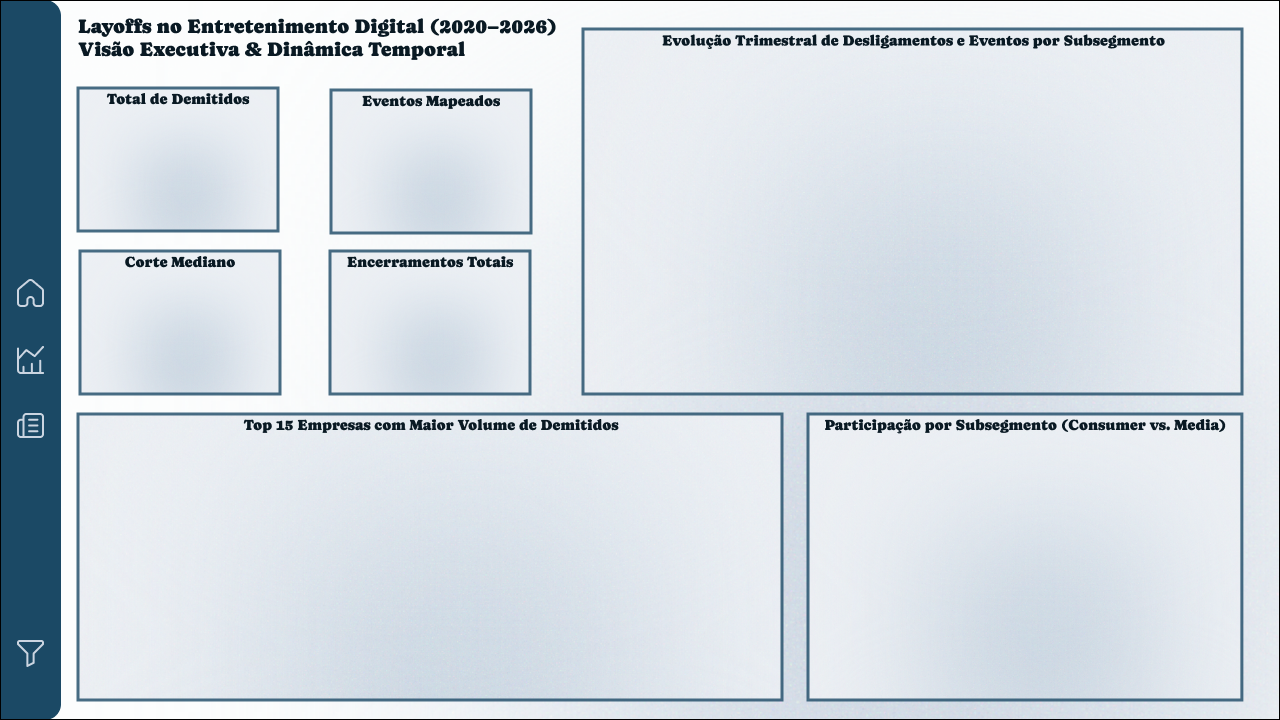

The page's visual inventory and layout, read from the dashboard file:
{"tool":"powerbi","page":{"name":"Dinâmica Temporal","canvas":[1920,1080],"ordinal":1},"visuals":[{"type":"group","id":"g1","title":"Padrão","box":[0,0,1920,1080],"z":0},{"type":"image","box":[0,0,1920,1080],"z":0,"group":"g1"},{"type":"cardVisual","fields":{"Data":["Sum(vw_evolucao_temporal.total_laid_off)"]},"box":[120,144,280,200],"z":1000,"group":"g1"},{"type":"cardVisual","fields":{"Data":["layoffs.Eventos_Mapeados"]},"box":[504,144,280,200],"z":2000,"group":"g1"},{"type":"cardVisual","fields":{"Data":["Median(layoffs.percentage_laid_off)"]},"box":[120,384,280,200],"z":3000,"group":"g1"},{"type":"cardVisual","fields":{"Data":["layoffs.Encerramentos_Totais"]},"box":[504,384,280,200],"z":4000,"group":"g1"},{"type":"actionButton","title":"Painel Filtros","box":[7,945,72,72],"z":4000},{"type":"lineStackedColumnComboChart","fields":{"Category":["layoffs.Periodo_Trimestre"],"Series":["layoffs.industry"],"Y":["Sum(layoffs.total_laid_off)"],"Y2":["layoffs.Eventos_Mapeados"]},"box":[888,96,960,456],"z":5000,"group":"g1"},{"type":"actionButton","title":"Painel Navegação","box":[7,505,72,72],"z":5000},{"type":"pageNavigator","title":"Sobre o Case","box":[12,608,60,60],"z":6000},{"type":"clusteredBarChart","fields":{"Category":["layoffs.company"],"Y":["Sum(layoffs.total_laid_off)"]},"box":[120,672,1032,384],"z":6000,"group":"g1"},{"type":"pageNavigator","title":"Home","box":[22,418,60,60],"z":7000},{"type":"donutChart","fields":{"Category":["layoffs.industry"],"Y":["Sum(layoffs.total_laid_off)"]},"box":[1224,672,624,384],"z":7000,"group":"g1"}]}

Visuals, with their boxes on the page's 1920x1080 design canvas (x1, y1, x2, y2). These are canvas units, not pixel positions in the 1280x720 screenshot, which may show the page scaled, cropped or inside an application window:
"Padrão" group: bbox=(0, 0, 1920, 1080)
image: bbox=(0, 0, 1920, 1080)
cardVisual - Sum(vw_evolucao_temporal.total_laid_off): bbox=(120, 144, 400, 344)
cardVisual - layoffs.Eventos_Mapeados: bbox=(504, 144, 784, 344)
cardVisual - Median(layoffs.percentage_laid_off): bbox=(120, 384, 400, 584)
cardVisual - layoffs.Encerramentos_Totais: bbox=(504, 384, 784, 584)
"Painel Filtros" actionButton: bbox=(7, 945, 79, 1017)
lineStackedColumnComboChart - layoffs.Periodo_Trimestre x layoffs.industry: bbox=(888, 96, 1848, 552)
"Painel Navegação" actionButton: bbox=(7, 505, 79, 577)
"Sobre o Case" pageNavigator: bbox=(12, 608, 72, 668)
clusteredBarChart - layoffs.company x Sum(layoffs.total_laid_off): bbox=(120, 672, 1152, 1056)
"Home" pageNavigator: bbox=(22, 418, 82, 478)
donutChart - layoffs.industry x Sum(layoffs.total_laid_off): bbox=(1224, 672, 1848, 1056)
